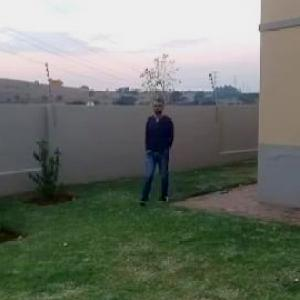follow: (141, 95, 179, 204)
